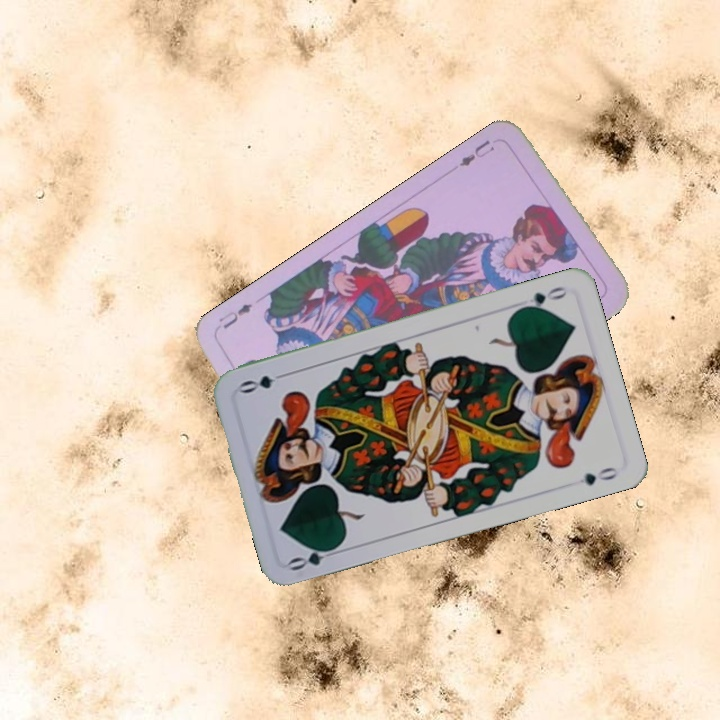EU: (455, 136, 498, 170)
GO: (285, 541, 344, 574), (514, 282, 571, 313)
